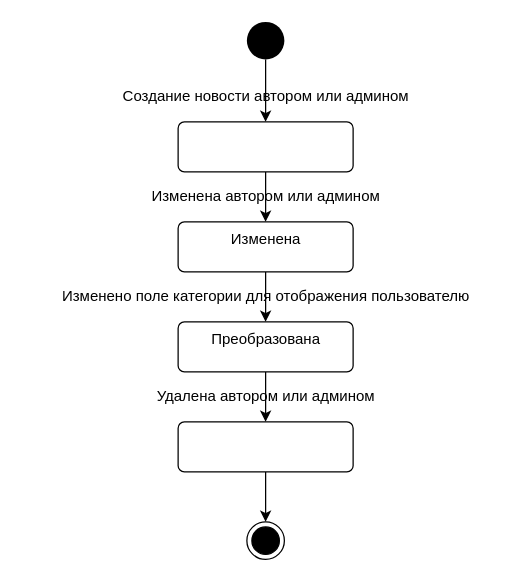
Image size: 530x581. Some labels were removed from this diagram. The shapes that lost their labels are listed below. From the top down, each one's centre as x and y in pixels, then its label:
point 265,146: Создана
point 265,446: Удалена
